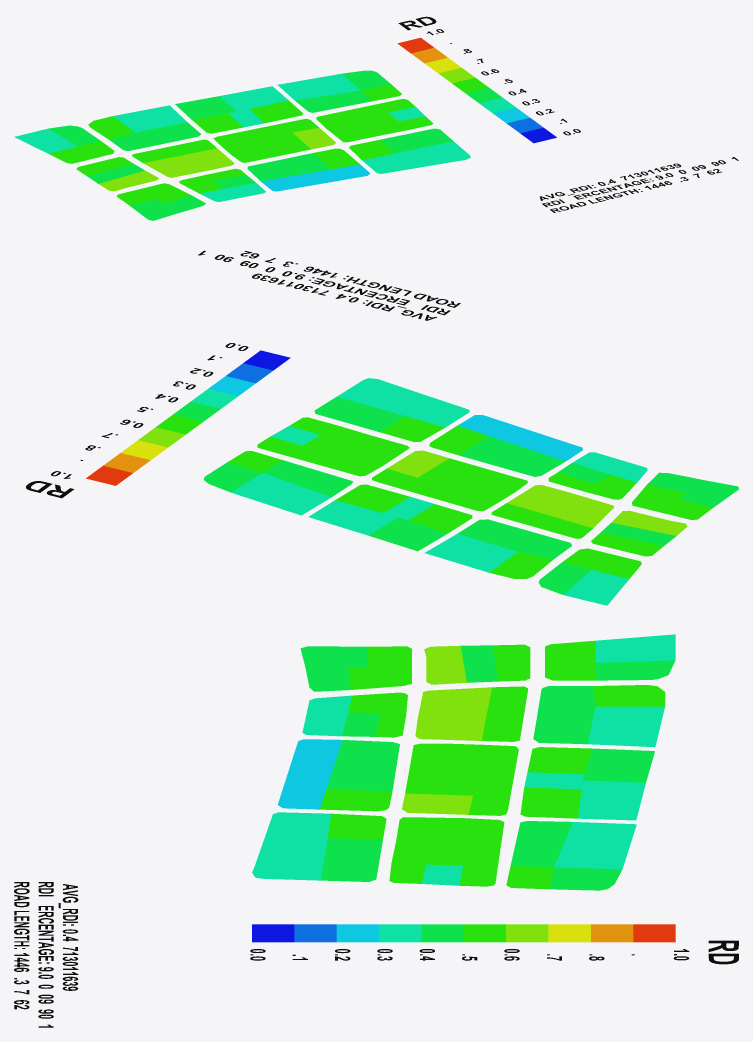
The model's file is example1_rdi.dae.
3 renders of one model, top to bottom at view 1: azimuth 30°, elevation 25°; view 2: azimuth 150°, elevation 25°; view 3: azimuth 270°, elevation 25°, orthographic. The views are drawn at different scales.
Parts seen in each view (by area): view 1: node0 (×6); view 2: node0 (×6); view 3: node0 (×16).
Part boxes in pixels (bbox=[...]): node0 (×6): bbox=[14, 16, 738, 220]; node0 (×6): bbox=[26, 250, 738, 605]; node0 (×16): bbox=[14, 634, 738, 1027].
Size of the model in its own units: 2576 by 2007 by 1e-06.
